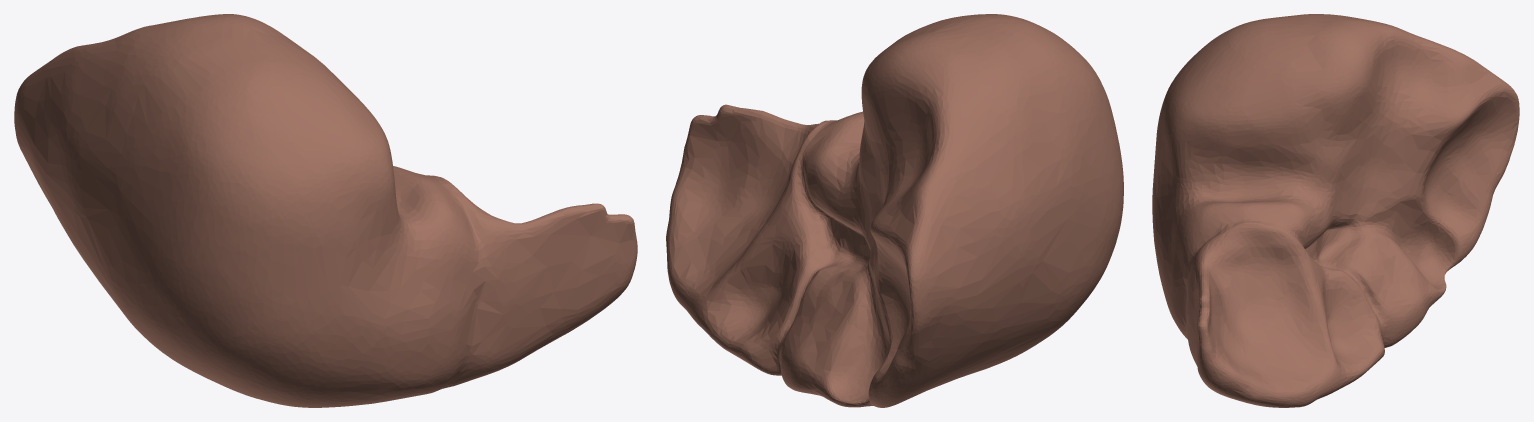
The model's file is foie.glb.
3 views of the same model, side by side, from view 1: azimuth 30°, elevation 25°; view 2: azimuth 150°, elevation 25°; view 3: azimuth 270°, elevation 25° (orthographic). The views are drawn at different scales.
Visible parts, largest first — view 1: FMA7197.stl; view 2: FMA7197.stl; view 3: FMA7197.stl.
Boxes of the visible parts, x1,y1,x2,y2 form: FMA7197.stl: (14, 14, 637, 407); FMA7197.stl: (666, 14, 1123, 407); FMA7197.stl: (1152, 14, 1519, 407).
Bounding box in the file's own units: 2 × 1.51 × 1.75.
